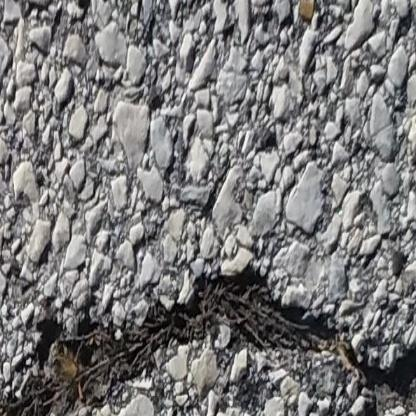Cracks: (0, 273, 416, 416)
